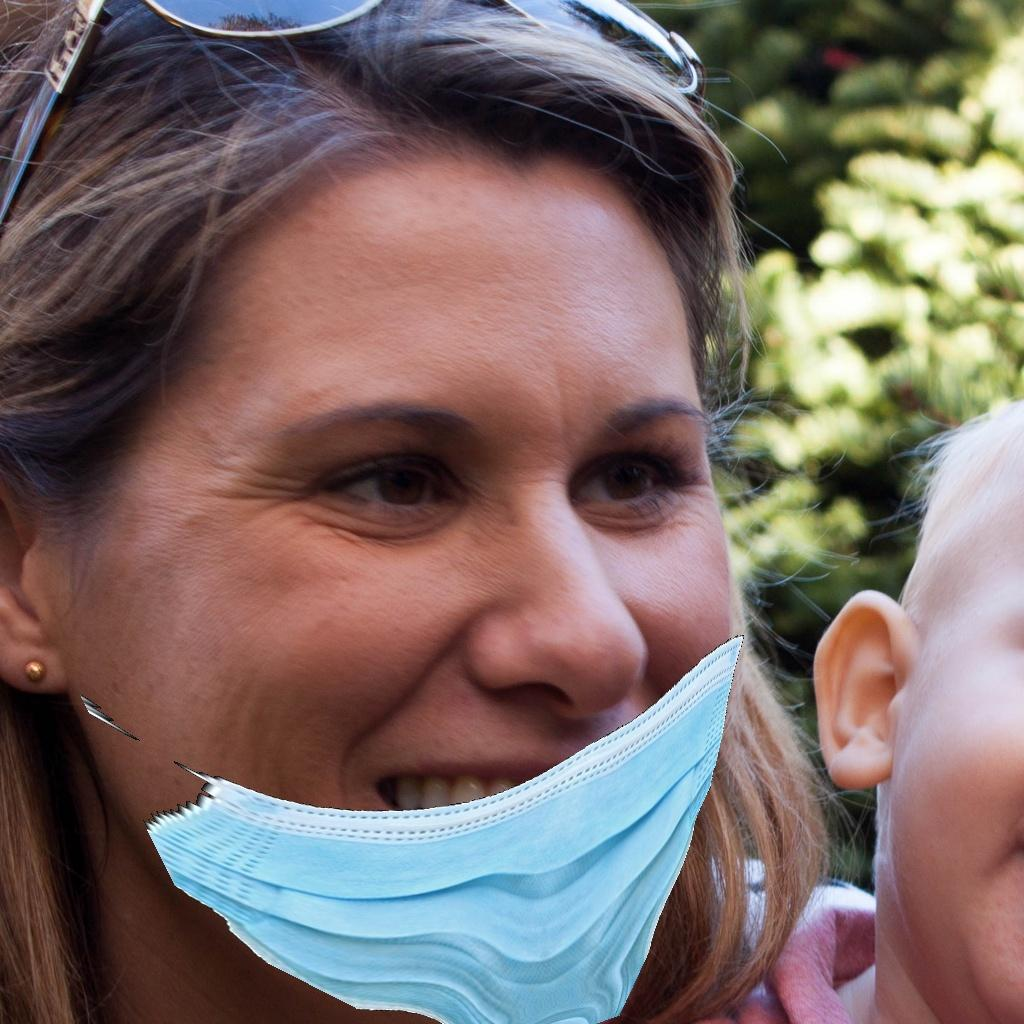Máscara Incorreta: (133, 272, 728, 981)
